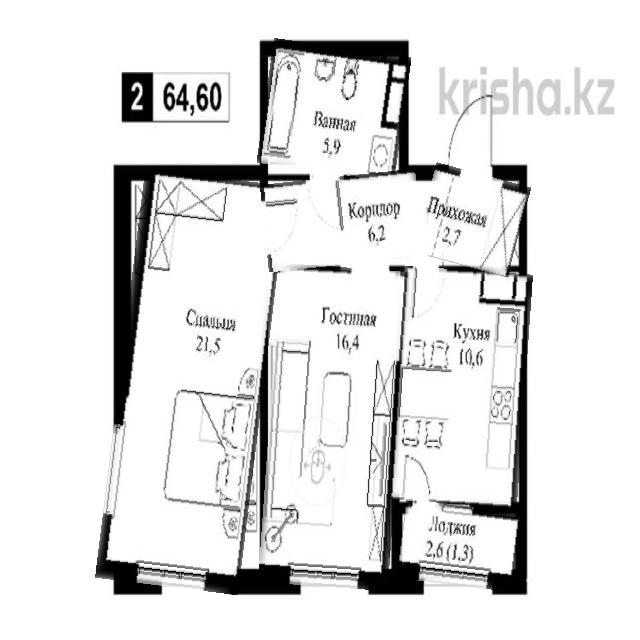balcony: (399, 502, 522, 589)
bathroom: (260, 42, 407, 178)
hallway: (262, 173, 422, 269), (418, 168, 526, 271)
kitchen: (393, 268, 529, 506)
living_room: (108, 173, 276, 591), (264, 265, 404, 589)
